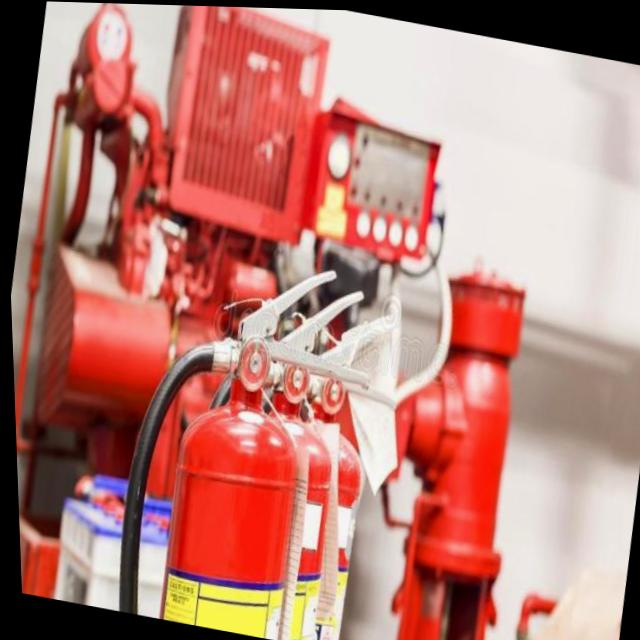FireExtinguisher: (92, 232, 367, 640), (153, 250, 391, 640), (201, 278, 422, 640)
